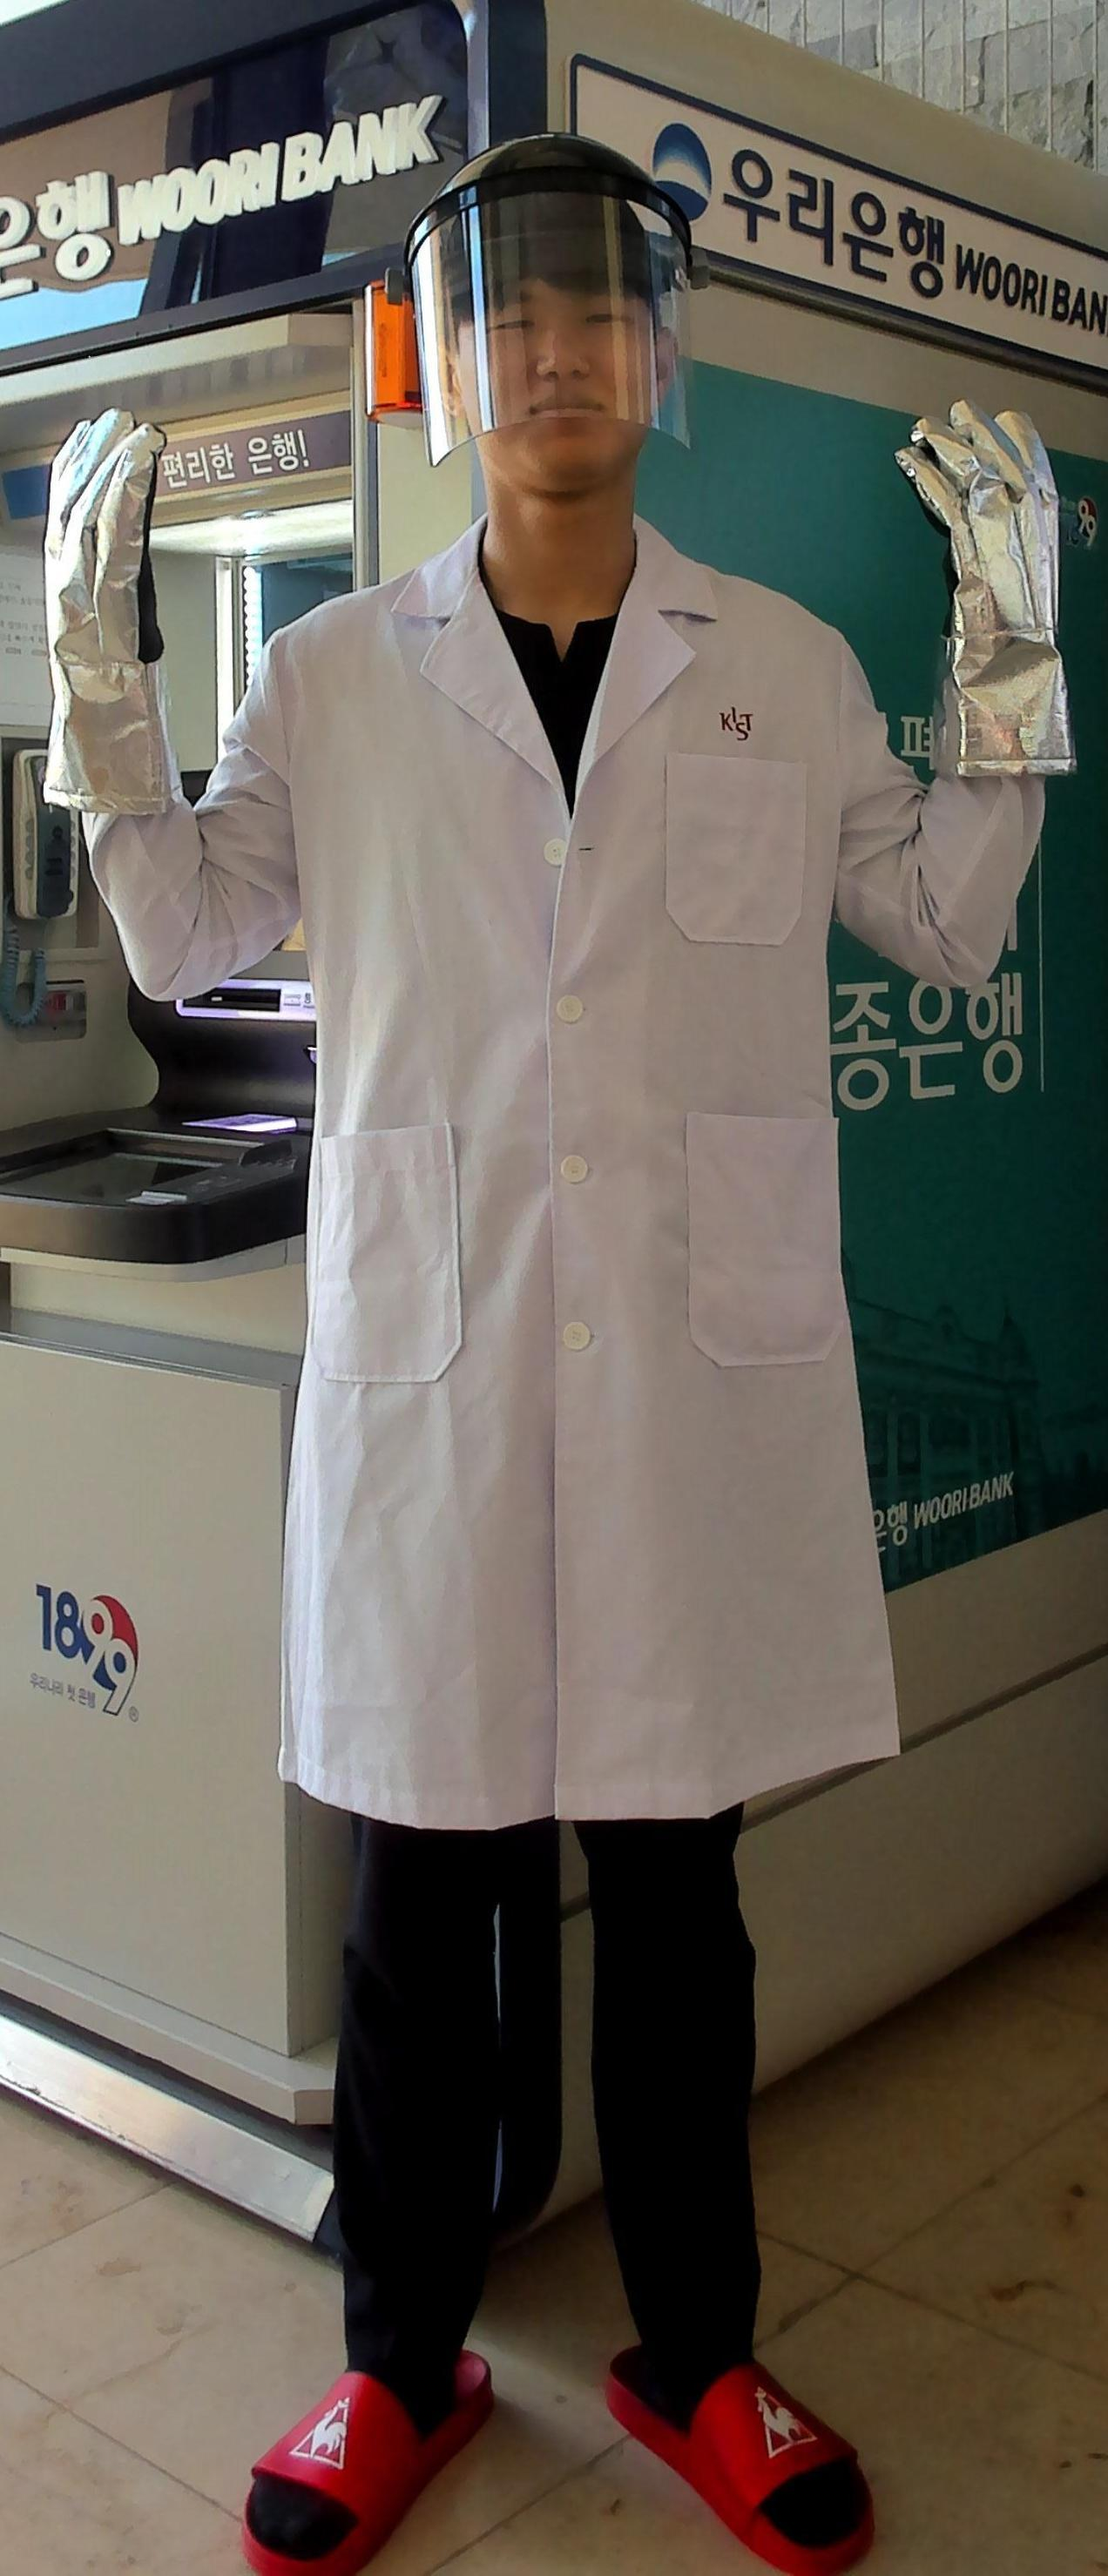lab_coat: (220, 606, 868, 1812)
